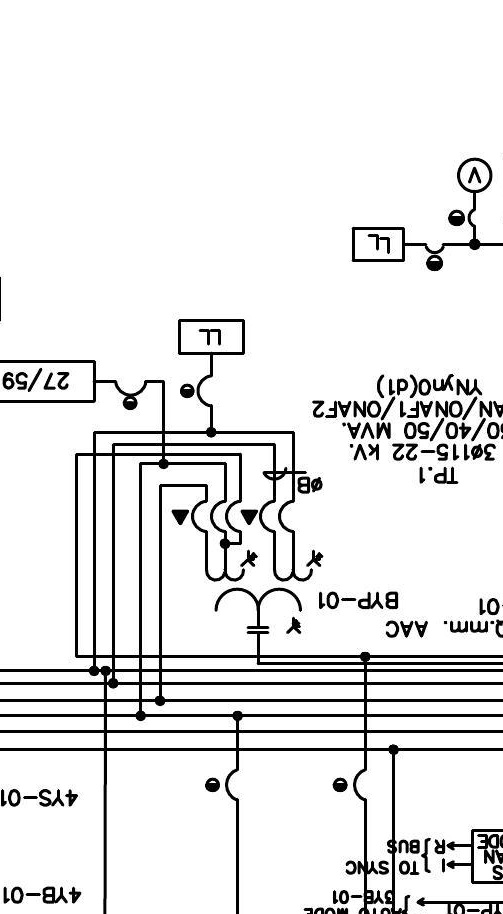115_cvt_3p: (204, 549, 324, 634)
LL: (178, 319, 245, 355), (352, 226, 405, 262)
v_m: (456, 156, 493, 194)
